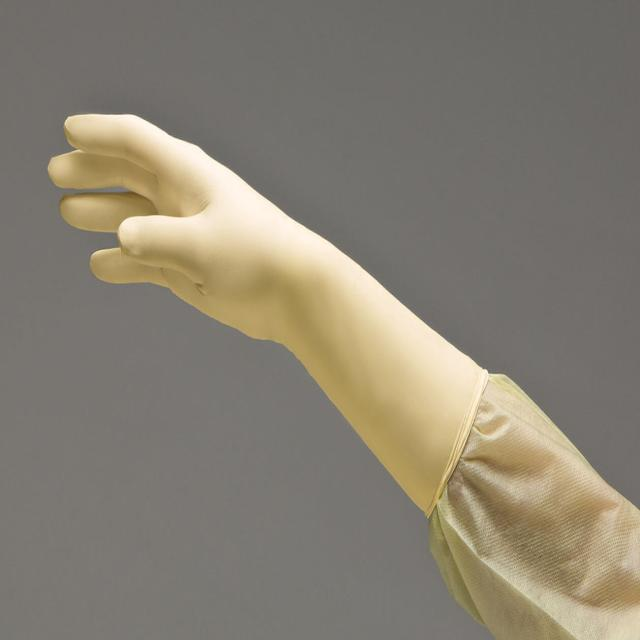Gloves: (48, 98, 431, 433)
